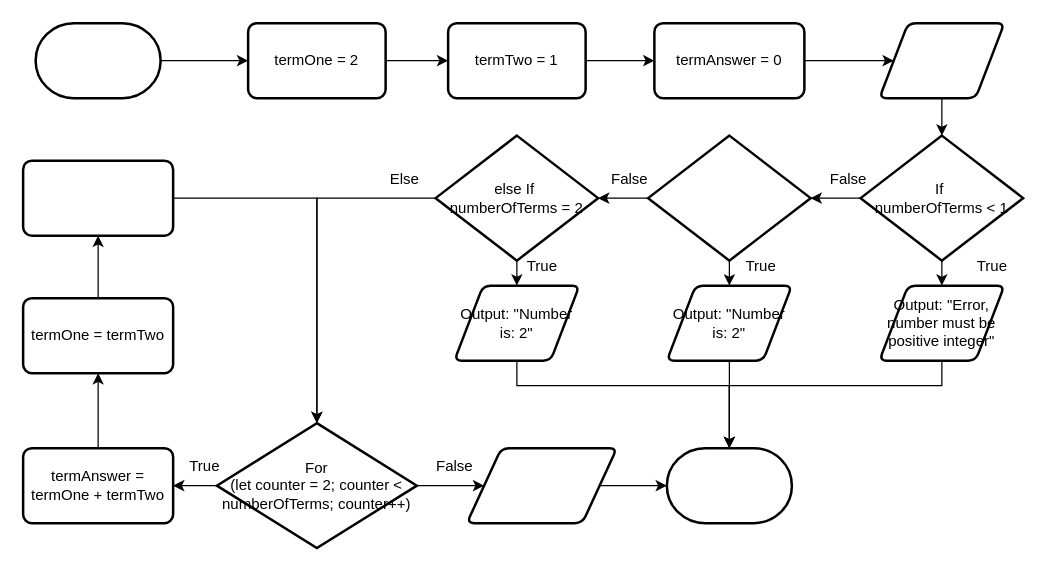
Some shapes in this 1045 by 570 pixel diagram are drawn without their labels. Here are the shapes that lost their labels. From the top down, the centre of each, then its label:
(x=97, y=60): Start
(x=941, y=60): Get numberOfTerms
(x=97, y=197): termTwo = termAnswer
(x=728, y=197): else If numberOfTerms = 1
(x=541, y=485): Output: "Number is: " [termAnswer]
(x=728, y=485): Stop
